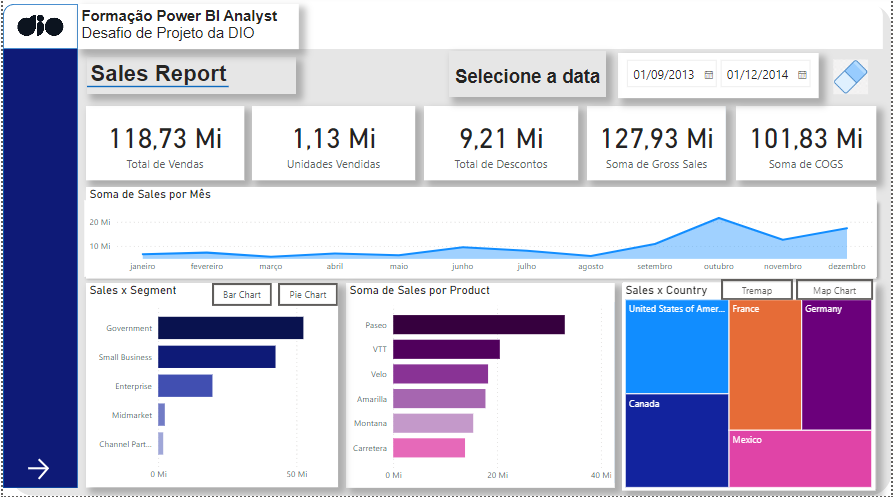

What the dashboard file says about the page in this screenshot:
{"tool":"powerbi","page":{"name":"Página 1","canvas":[1280,720],"ordinal":0},"visuals":[{"type":"shape","box":[10.1,11.5,1270.1,708.5],"z":0},{"type":"slicer","fields":{"Values":["financials.Date"]},"box":[885.3,82,289.4,64.8],"z":0,"group":"g2"},{"type":"shape","box":[120.4,115.8,204.5,30.2],"z":0,"group":"g5"},{"type":"shape","box":[119.5,158.4,227.5,106.6],"z":0,"group":"g1"},{"type":"map","title":"Sales x Country","fields":{"Category":["financials.Country"],"Size":["Sum(financials. Sales)"]},"box":[892.7,411.8,365,298.4],"z":0,"group":"g3"},{"type":"donutChart","title":"Sales x Segmento - pie","fields":{"Y":["Sum(financials. Sales)"],"Category":["financials.Segment"]},"box":[119.6,413.6,362.3,294.9],"z":0,"group":"g4"},{"type":"shape","box":[0,11.8,107.5,697.1],"z":1000},{"type":"textbox","box":[641.9,79.1,226.1,66.2],"z":1000,"group":"g2"},{"type":"textbox","box":[120.4,88.4,301,53.3],"z":1000,"group":"g5"},{"type":"shape","box":[370.1,158.4,223.2,106.6],"z":1000,"group":"g1"},{"type":"treemap","title":"Sales x Country","fields":{"Group":["financials.Country"],"Values":["Sum(financials. Sales)"]},"box":[892,412.1,364.7,299.4],"z":1000,"group":"g3"},{"type":"clusteredBarChart","title":"Sales  x Segment","fields":{"Y":["Sum(financials. Sales)"],"Category":["financials.Segment"]},"box":[119.5,413.3,362.9,294],"z":1000,"group":"g4"},{"type":"actionButton","title":"Botão - Map","box":[1141.9,406.9,111.2,30.5],"z":1500,"group":"g3"},{"type":"actionButton","title":"Botão - Bar","box":[300.9,413.3,86.4,33.1],"z":1500,"group":"g4"},{"type":"shape","box":[0,11.5,108,64.8],"z":2000},{"type":"actionButton","box":[1193.8,86.4,51.8,60.5],"z":2000,"group":"g2"},{"type":"shape","box":[606.2,158.4,221.8,106.6],"z":2000,"group":"g1"},{"type":"actionButton","title":"Botão - Tremap","box":[1035.2,407,103.6,30.5],"z":2000,"group":"g3"},{"type":"actionButton","title":"Botão - Pie","box":[396,413.3,86.4,33.1],"z":2000,"group":"g4"},{"type":"image","box":[15.8,14.4,76.3,56.2],"z":3000},{"type":"image","title":"Borracha","box":[1183.7,86.4,73.4,60.5],"z":3000,"group":"g2"},{"type":"shape","box":[840.9,158.4,200.2,106.6],"z":3000,"group":"g1"},{"type":"shape","box":[108,11.5,1159.2,64.8],"z":4000},{"type":"shape","box":[1055.5,158.4,201.6,106.6],"z":4000,"group":"g1"},{"type":"textbox","box":[108,11.5,318.2,64.8],"z":5000},{"type":"card","fields":{"Values":["Sum(financials. Sales)"]},"box":[119.5,158.4,227.5,106.6],"z":5000,"group":"g1"},{"type":"group","id":"g1","title":"Cartões","box":[119.5,158.4,1137.6,106.6],"z":6000},{"type":"card","fields":{"Values":["Sum(financials.Units Sold)"]},"box":[358.5,158.4,234.7,106.6],"z":6000,"group":"g1"},{"type":"card","fields":{"Values":["Sum(financials.Discounts)"]},"box":[606.2,158.4,221.8,106.6],"z":7000,"group":"g1"},{"type":"shape","box":[108,285.1,1159.2,128.2],"z":7000},{"type":"card","fields":{"Values":["Sum(financials.Gross Sales)"]},"box":[840.9,158.4,200.2,106.6],"z":8000,"group":"g1"},{"type":"shape","box":[493.9,440.6,387.4,260.6],"z":8000},{"type":"card","fields":{"Values":["Sum(financials.COGS)"]},"box":[1055.5,158.4,201.6,106.6],"z":9000,"group":"g1"},{"type":"shape","box":[892.8,440.6,352.8,260.6],"z":9000},{"type":"areaChart","fields":{"Category":["financials.Date.Variation.Hierarquia de datas.Mês"],"Y":["Sum(financials. Sales)"]},"box":[119.5,275,1137.6,132.5],"z":10000},{"type":"shape","title":"SalesSegmentos - bar","box":[119.5,440.6,362.9,260.6],"z":11000},{"type":"clusteredBarChart","fields":{"Y":["Sum(financials. Sales)"],"Category":["financials.Product"]},"box":[493.9,413.3,387.4,295.2],"z":12000},{"type":"group","id":"g2","title":"Filtro por data","box":[641.9,79.1,615.2,67.8],"z":13000},{"type":"group","id":"g3","title":"Sales por pais","box":[892,406.9,365.8,304.6],"z":14000},{"type":"group","id":"g4","title":"Sales x Segmento","box":[119.5,413.3,362.9,295.2],"z":15000},{"type":"group","id":"g5","title":"Title report","box":[120.4,88.4,301.7,57.9],"z":16000},{"type":"actionButton","box":[30.2,661,44.6,40.3],"z":17000}]}

Visuals, with their boxes on the page's 1280x720 design canvas (x1, y1, x2, y2). These are canvas units, not pixel positions in the 894x497 screenshot, which may show the page scaled, cropped or inside an application window:
shape: l=10, t=12, r=1280, b=720
slicer - financials.Date: l=885, t=82, r=1175, b=147
shape: l=120, t=116, r=325, b=146
shape: l=120, t=158, r=347, b=265
"Sales x Country" map: l=893, t=412, r=1258, b=710
"Sales x Segmento - pie" donutChart: l=120, t=414, r=482, b=708
shape: l=0, t=12, r=108, b=709
textbox: l=642, t=79, r=868, b=145
textbox: l=120, t=88, r=421, b=142
shape: l=370, t=158, r=593, b=265
"Sales x Country" treemap: l=892, t=412, r=1257, b=712
"Sales  x Segment" clusteredBarChart: l=120, t=413, r=482, b=707
"Botão - Map" actionButton: l=1142, t=407, r=1253, b=437
"Botão - Bar" actionButton: l=301, t=413, r=387, b=446
shape: l=0, t=12, r=108, b=76
actionButton: l=1194, t=86, r=1246, b=147
shape: l=606, t=158, r=828, b=265
"Botão - Tremap" actionButton: l=1035, t=407, r=1139, b=438
"Botão - Pie" actionButton: l=396, t=413, r=482, b=446
image: l=16, t=14, r=92, b=71
"Borracha" image: l=1184, t=86, r=1257, b=147
shape: l=841, t=158, r=1041, b=265
shape: l=108, t=12, r=1267, b=76
shape: l=1056, t=158, r=1257, b=265
textbox: l=108, t=12, r=426, b=76
card - Sum(financials. Sales): l=120, t=158, r=347, b=265
"Cartões" group: l=120, t=158, r=1257, b=265
card - Sum(financials.Units Sold): l=358, t=158, r=593, b=265
card - Sum(financials.Discounts): l=606, t=158, r=828, b=265
shape: l=108, t=285, r=1267, b=413
card - Sum(financials.Gross Sales): l=841, t=158, r=1041, b=265
shape: l=494, t=441, r=881, b=701
card - Sum(financials.COGS): l=1056, t=158, r=1257, b=265
shape: l=893, t=441, r=1246, b=701
areaChart - financials.Date.Variation.Hierarquia de datas.Mês x Sum(financials. Sales): l=120, t=275, r=1257, b=408
"SalesSegmentos - bar" shape: l=120, t=441, r=482, b=701
clusteredBarChart - Sum(financials. Sales) x financials.Product: l=494, t=413, r=881, b=708
"Filtro por data" group: l=642, t=79, r=1257, b=147
"Sales por pais" group: l=892, t=407, r=1258, b=712
"Sales x Segmento" group: l=120, t=413, r=482, b=708
"Title report" group: l=120, t=88, r=422, b=146
actionButton: l=30, t=661, r=75, b=701
